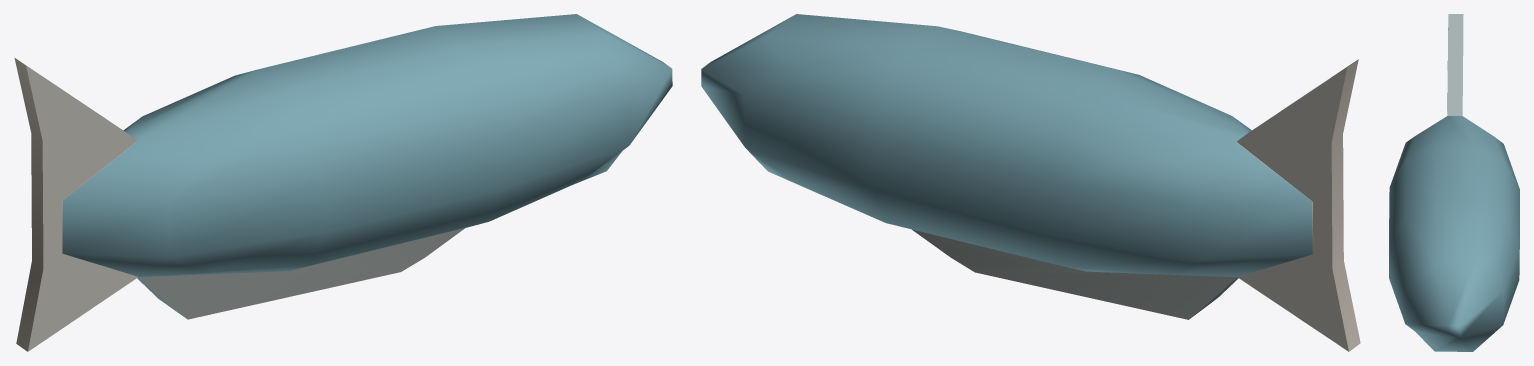
Rendered from zepplin.fbx.
The picture shows the model from 3 angles, left to right: view 1: azimuth 30°, elevation 25°; view 2: azimuth 150°, elevation 25°; view 3: azimuth 270°, elevation 25°; orthographic projection. The views are drawn at different scales.
Visible parts, largest first — view 1: zepplin1; view 2: zepplin1; view 3: zepplin1.
Boxes of the visible parts, x1,y1,x2,y2 form: zepplin1: (14,14,672,351); zepplin1: (701,14,1360,351); zepplin1: (1389,14,1519,351).
Bounding box in the file's own units: 5.43 × 2.29 × 1.45.
1 material, 1 textured.
